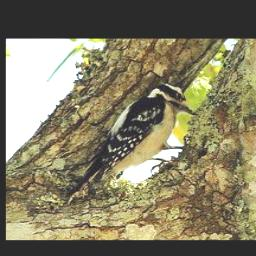Woodpecker: (64, 76, 199, 202)
